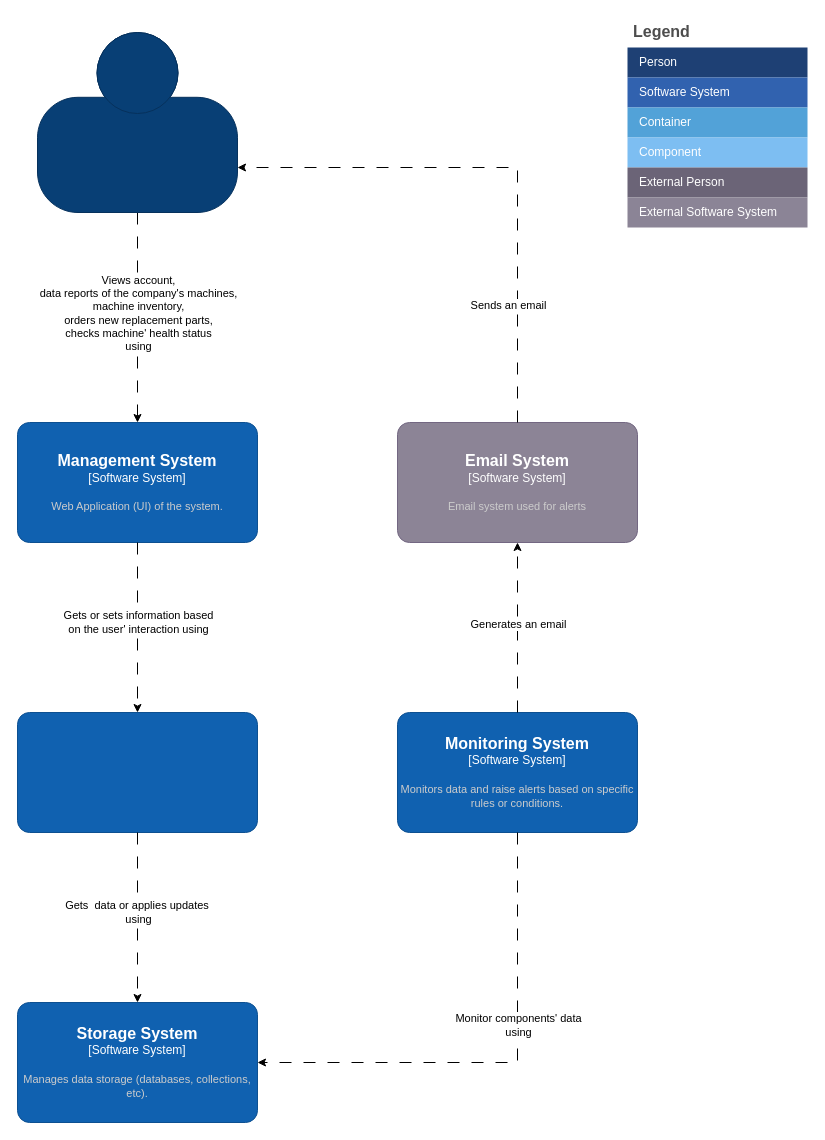
The diagram is 825 pixels wide and 1140 high, and some of its shapes have lost their labels. The shapes that lost their labels are listed below. From the top down, each one's centre as x and y in pixels, then its label:
[137,122]: User [Person] An user of the system.
[137,772]: API System [Software System] The main API that servers the users (dashboard).
